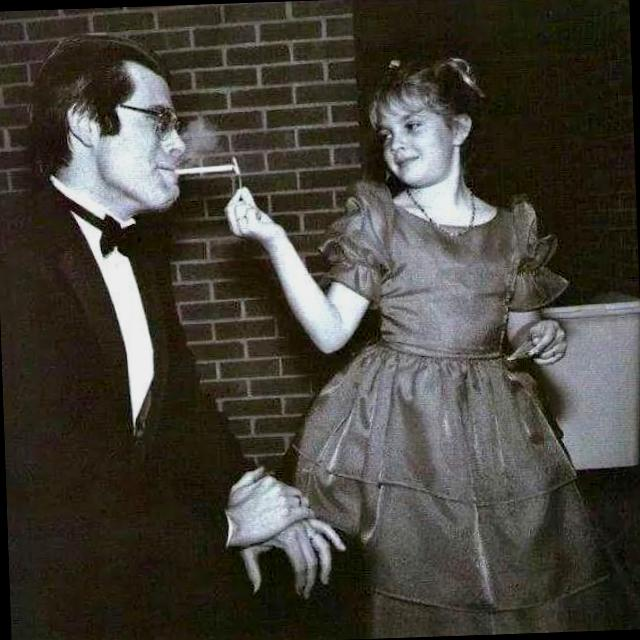smoke: (166, 150, 245, 188)
